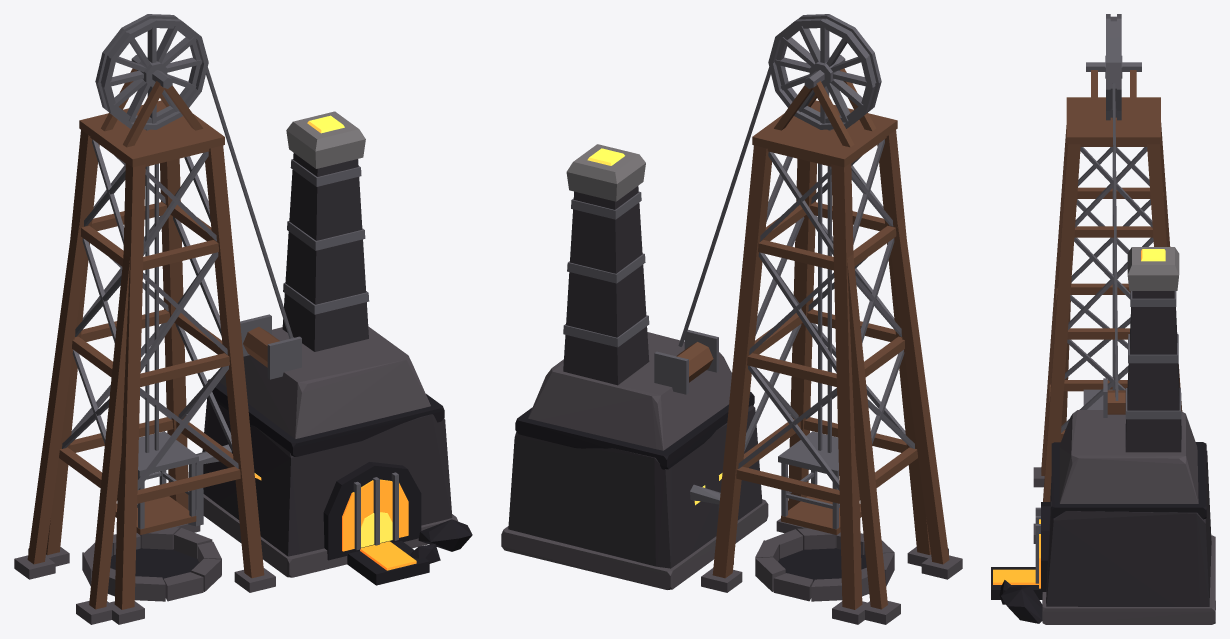
File: Volcano_2_MineElevator.fbx
3 views of the same model, side by side, from view 1: azimuth 30°, elevation 25°; view 2: azimuth 150°, elevation 25°; view 3: azimuth 270°, elevation 25° (orthographic). The views are drawn at different scales.
Visible parts, largest first — view 1: Volcano_2_MineElevator__Volcano_Wood, Volcano_2_MineElevator__Volcano_Iron, Volcano_2_MineElevator__Volcano_Basalt, Volcano_2_MineElevator__Volcano_BasaltLight, Volcano_2_MineElevator__Volcano_BasaltDark, Volcano_2_MineElevator__Neon_Volcano_Lava, Volcano_2_MineElevator__Volcano_Ash, Volcano_2_MineElevator__Neon_Volcano_Ember; view 2: Volcano_2_MineElevator__Volcano_Wood, Volcano_2_MineElevator__Volcano_Basalt, Volcano_2_MineElevator__Volcano_Iron, Volcano_2_MineElevator__Volcano_BasaltLight, Volcano_2_MineElevator__Volcano_BasaltDark, Volcano_2_MineElevator__Volcano_Ash; view 3: Volcano_2_MineElevator__Volcano_Basalt, Volcano_2_MineElevator__Volcano_Wood, Volcano_2_MineElevator__Volcano_BasaltLight, Volcano_2_MineElevator__Volcano_Iron, Volcano_2_MineElevator__Volcano_BasaltDark, Volcano_2_MineElevator__Volcano_Ash, Volcano_2_MineElevator__Neon_Volcano_Lava.
Part boxes in pixels (left/top/right/bottom): Volcano_2_MineElevator__Volcano_Wood: left=27, top=68, right=279, bottom=609; Volcano_2_MineElevator__Volcano_Iron: left=62, top=14, right=398, bottom=549; Volcano_2_MineElevator__Volcano_Basalt: left=202, top=153, right=452, bottom=556; Volcano_2_MineElevator__Volcano_BasaltLight: left=14, top=326, right=458, bottom=624; Volcano_2_MineElevator__Volcano_BasaltDark: left=110, top=379, right=472, bottom=585; Volcano_2_MineElevator__Neon_Volcano_Lava: left=342, top=479, right=416, bottom=570; Volcano_2_MineElevator__Volcano_Ash: left=286, top=111, right=365, bottom=168; Volcano_2_MineElevator__Neon_Volcano_Ember: left=254, top=115, right=392, bottom=547; Volcano_2_MineElevator__Volcano_Wood: left=676, top=68, right=949, bottom=609; Volcano_2_MineElevator__Volcano_Basalt: left=508, top=186, right=762, bottom=568; Volcano_2_MineElevator__Volcano_Iron: left=563, top=14, right=914, bottom=564; Volcano_2_MineElevator__Volcano_BasaltLight: left=501, top=332, right=962, bottom=624; Volcano_2_MineElevator__Volcano_BasaltDark: left=515, top=391, right=866, bottom=581; Volcano_2_MineElevator__Volcano_Ash: left=566, top=144, right=645, bottom=201; Volcano_2_MineElevator__Volcano_Basalt: left=1046, top=291, right=1211, bottom=606; Volcano_2_MineElevator__Volcano_Wood: left=1041, top=70, right=1182, bottom=501; Volcano_2_MineElevator__Volcano_BasaltLight: left=1033, top=410, right=1215, bottom=624; Volcano_2_MineElevator__Volcano_Iron: left=1035, top=14, right=1181, bottom=583; Volcano_2_MineElevator__Volcano_BasaltDark: left=991, top=442, right=1206, bottom=623; Volcano_2_MineElevator__Volcano_Ash: left=1127, top=247, right=1179, bottom=290; Volcano_2_MineElevator__Neon_Volcano_Lava: left=993, top=519, right=1040, bottom=588.
Bounding box in the file's own units: 61.76 × 89.33 × 36.97.
